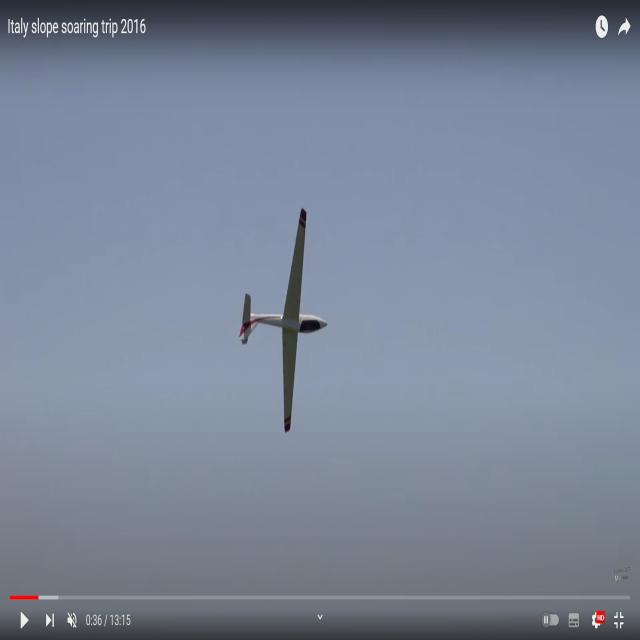iha: (271, 210, 298, 427)
